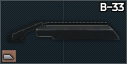AK Zenit B-33 dust cover: (0, 0, 127, 64)
